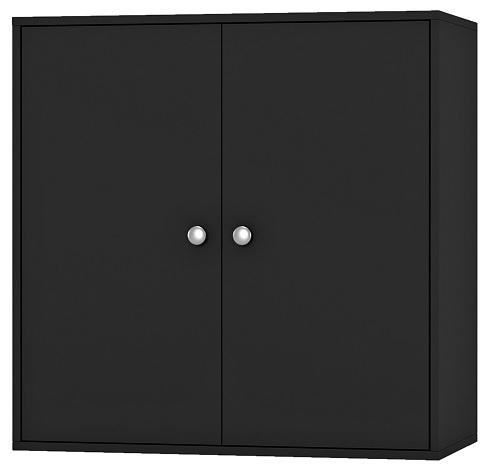cabinet_door: (229, 20, 437, 439), (17, 20, 220, 439)
handle: (185, 223, 208, 259), (232, 223, 254, 257)
